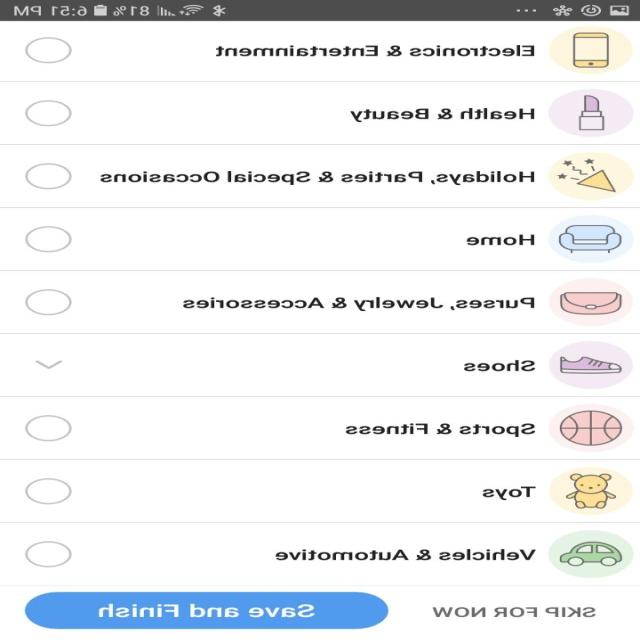Icon: (36, 359, 64, 369)
Image: (548, 26, 634, 75), (548, 89, 634, 138), (548, 214, 634, 263), (548, 277, 634, 326), (548, 340, 634, 389), (548, 403, 634, 452), (548, 466, 634, 515), (548, 529, 634, 578), (548, 152, 634, 200)
Text: (100, 171, 536, 185), (183, 296, 535, 311), (216, 44, 535, 57), (276, 548, 536, 560), (346, 422, 536, 437), (350, 108, 535, 122), (432, 606, 596, 617), (464, 359, 536, 372), (467, 234, 535, 246), (483, 485, 537, 500)
TextButton: (24, 591, 390, 628)
